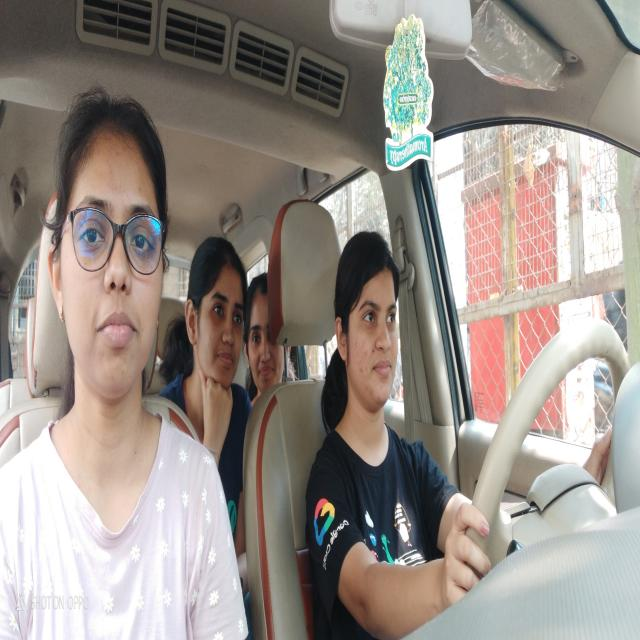person: (47, 86, 170, 403), (330, 233, 407, 424), (183, 240, 248, 387), (247, 265, 286, 397)
